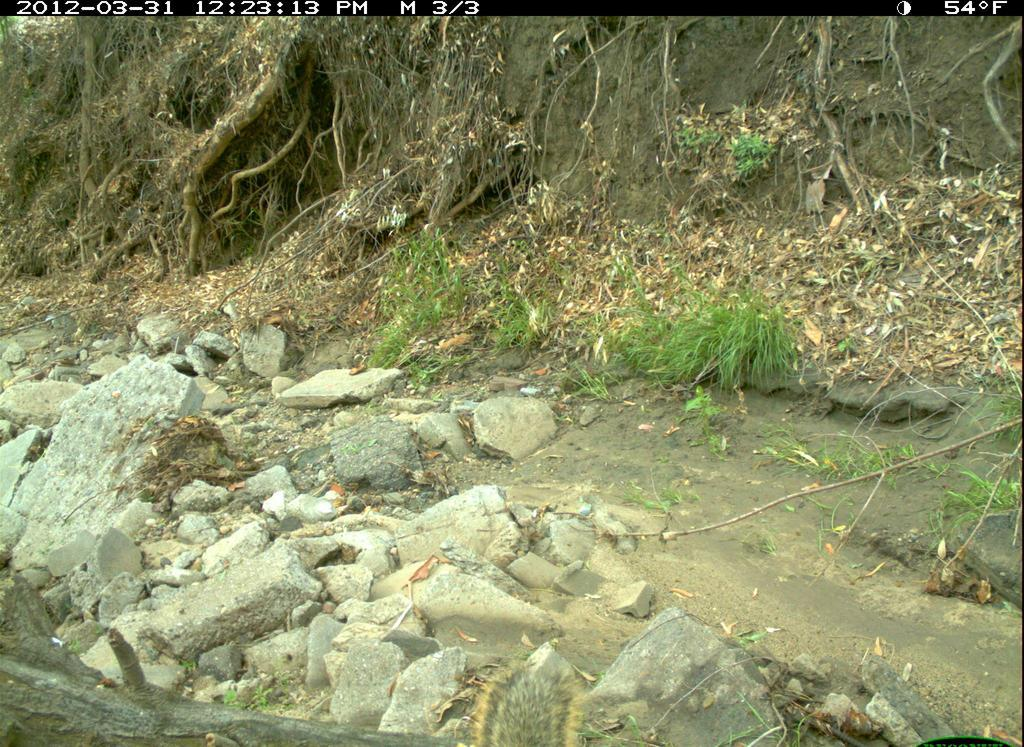squirrel: (473, 655, 592, 747)
